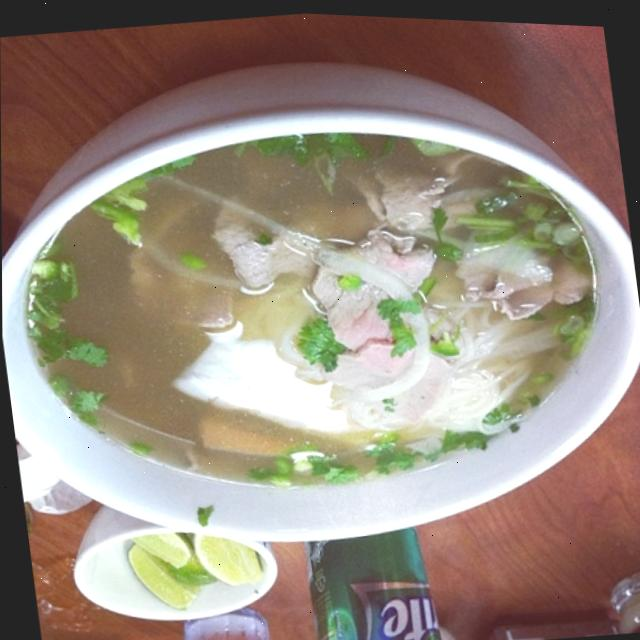面条主食: (0, 5, 640, 614)
